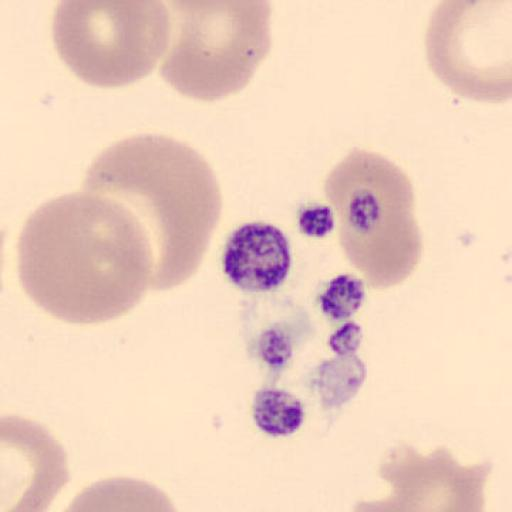Platelet: (218, 218, 296, 295)
RBC: (80, 130, 223, 287), (14, 190, 152, 328), (325, 145, 423, 291), (156, 1, 274, 102), (49, 0, 171, 90), (422, 1, 512, 105), (370, 441, 490, 512), (3, 412, 71, 512), (53, 474, 183, 512), (340, 495, 432, 512)
